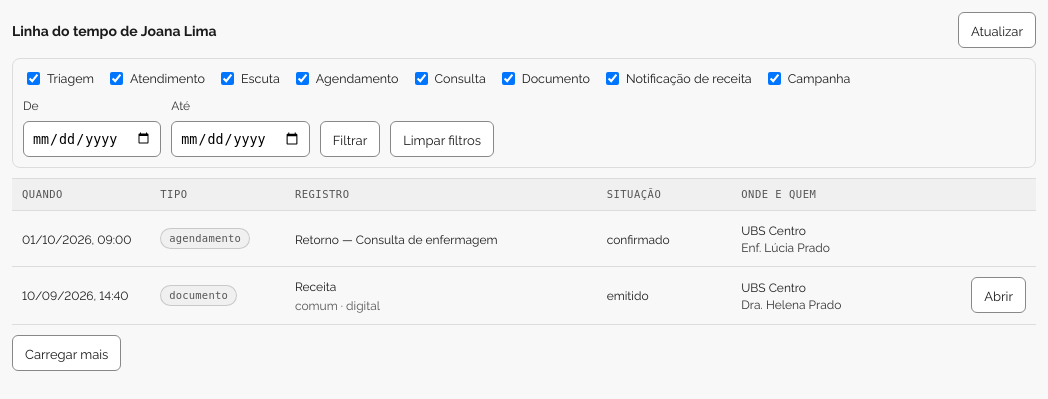
Test: PatientTimeline › carregar mais: pede com o cursor e não repete entrada
Click the button "Carregar mais" at (67, 352), box [12,334,121,370]
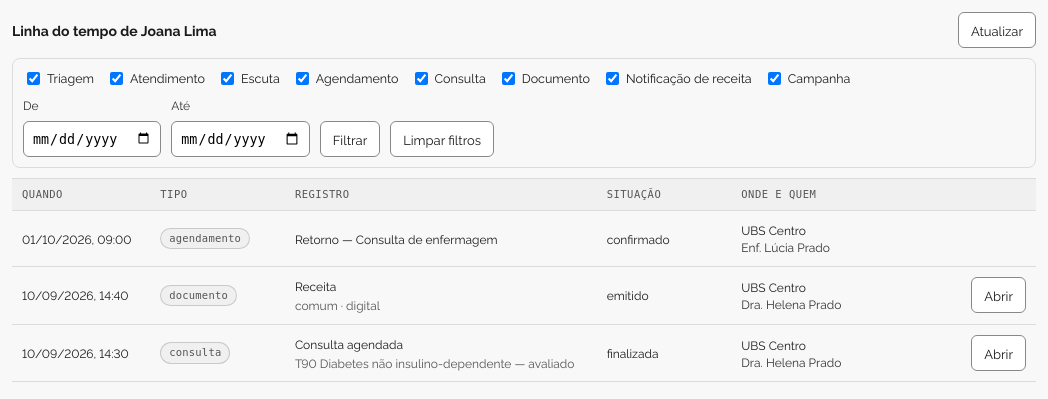
Expected: the text "Consulta agendada" is shown, [295,334,403,352]
Expected: the text "Receita" is shown once, [295,277,336,294]
Expected: the button "Carregar mais" is gone
